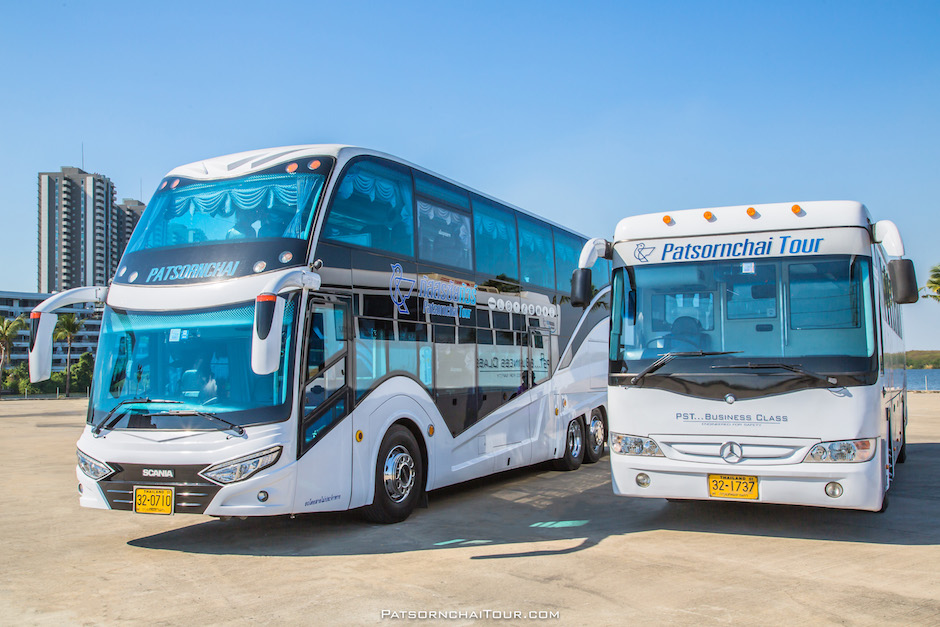bus: (74, 142, 579, 524), (606, 200, 916, 520)
